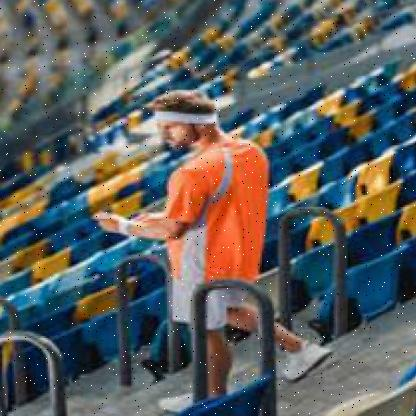stair_down: (279, 293, 416, 412)
